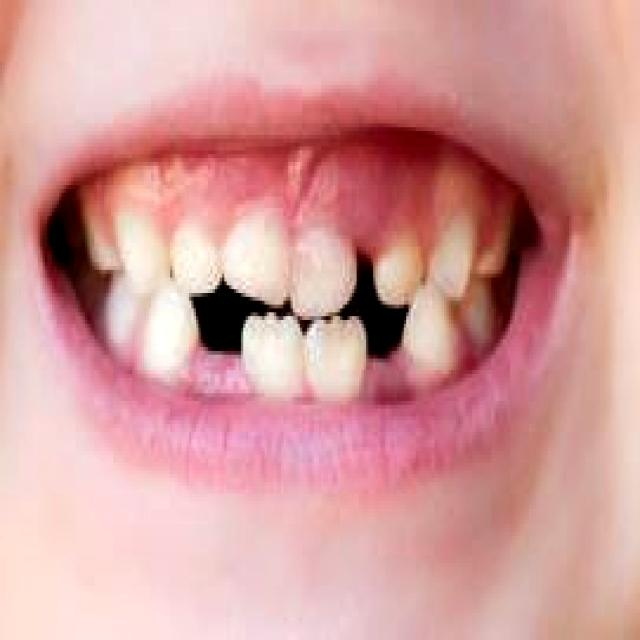hypodontia: (161, 281, 468, 401)
